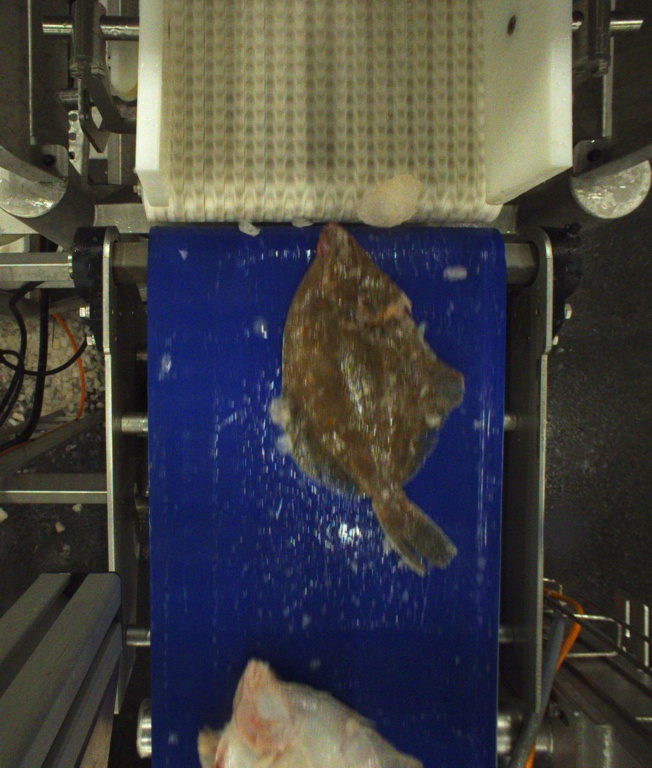PLE: (280, 221, 467, 571)
